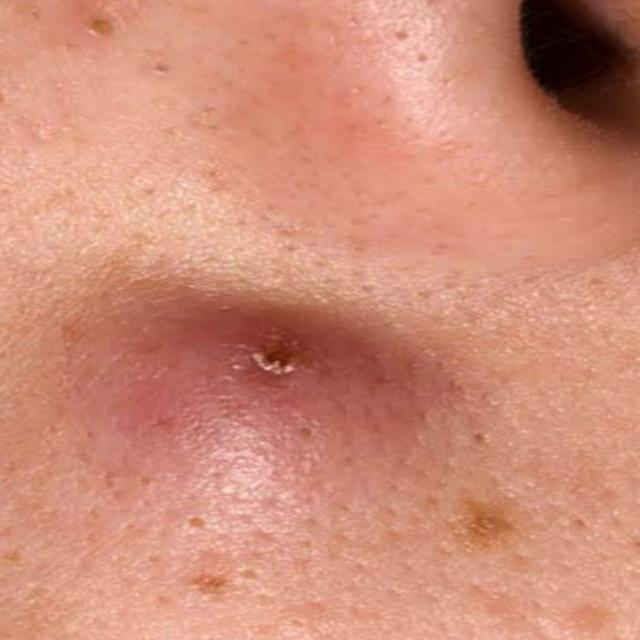nodule: (14, 261, 463, 567)
